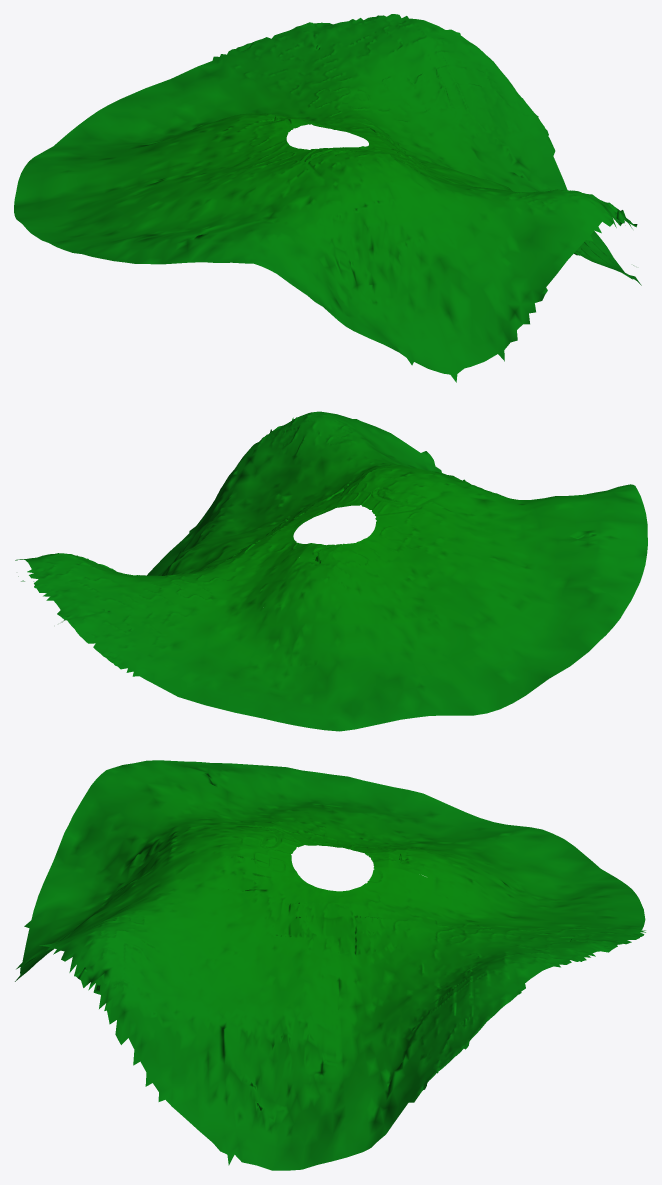
Rendered from mid.glb.
3 renders of one model, top to bottom at view 1: azimuth 30°, elevation 25°; view 2: azimuth 150°, elevation 25°; view 3: azimuth 270°, elevation 25°, orthographic.
Parts seen in each view (by area): view 1: mid; view 2: mid; view 3: mid.
Part boxes in pixels (x1=…): mid: x1=14, y1=14, x2=641, y2=382; mid: x1=15, y1=411, x2=647, y2=731; mid: x1=15, y1=760, x2=645, y2=1170.
Size of the model in its own units: 1168 by 402 by 1185.
